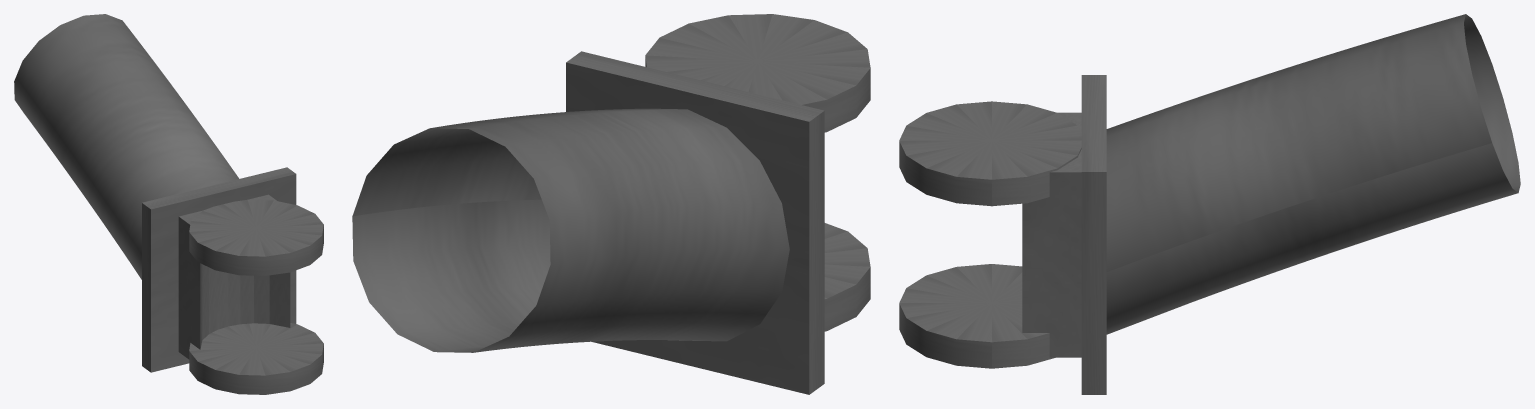
The model's file is mastarmcurve_5x1_c0_thin.obj.
The picture shows the model from 3 angles, left to right: view 1: azimuth 30°, elevation 25°; view 2: azimuth 150°, elevation 25°; view 3: azimuth 270°, elevation 25°; orthographic projection. The views are drawn at different scales.
Visible parts, largest first — view 1: mastarm_5x1_c0_thin; view 2: mastarm_5x1_c0_thin; view 3: mastarm_5x1_c0_thin.
Part boxes in pixels (x1=…): mastarm_5x1_c0_thin: x1=14, y1=14, x2=323, y2=394; mastarm_5x1_c0_thin: x1=352, y1=14, x2=870, y2=394; mastarm_5x1_c0_thin: x1=899, y1=14, x2=1520, y2=394.
Bounding box in the file's own units: 0.6875 × 1.07 × 1.86.
